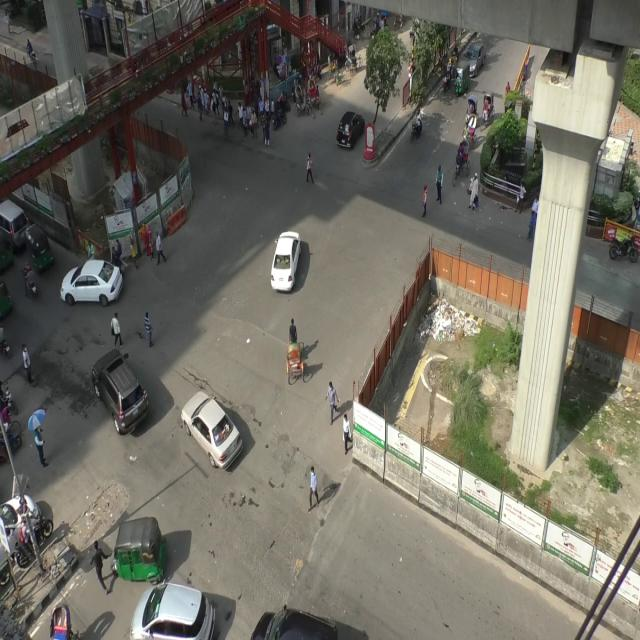cng: (106, 513, 163, 585), (21, 218, 53, 274), (452, 51, 471, 95)
rikshaw: (451, 140, 472, 185), (293, 85, 313, 122), (306, 74, 324, 114), (480, 89, 498, 127), (326, 52, 343, 87), (462, 116, 479, 149), (346, 42, 363, 74), (464, 96, 480, 124)
